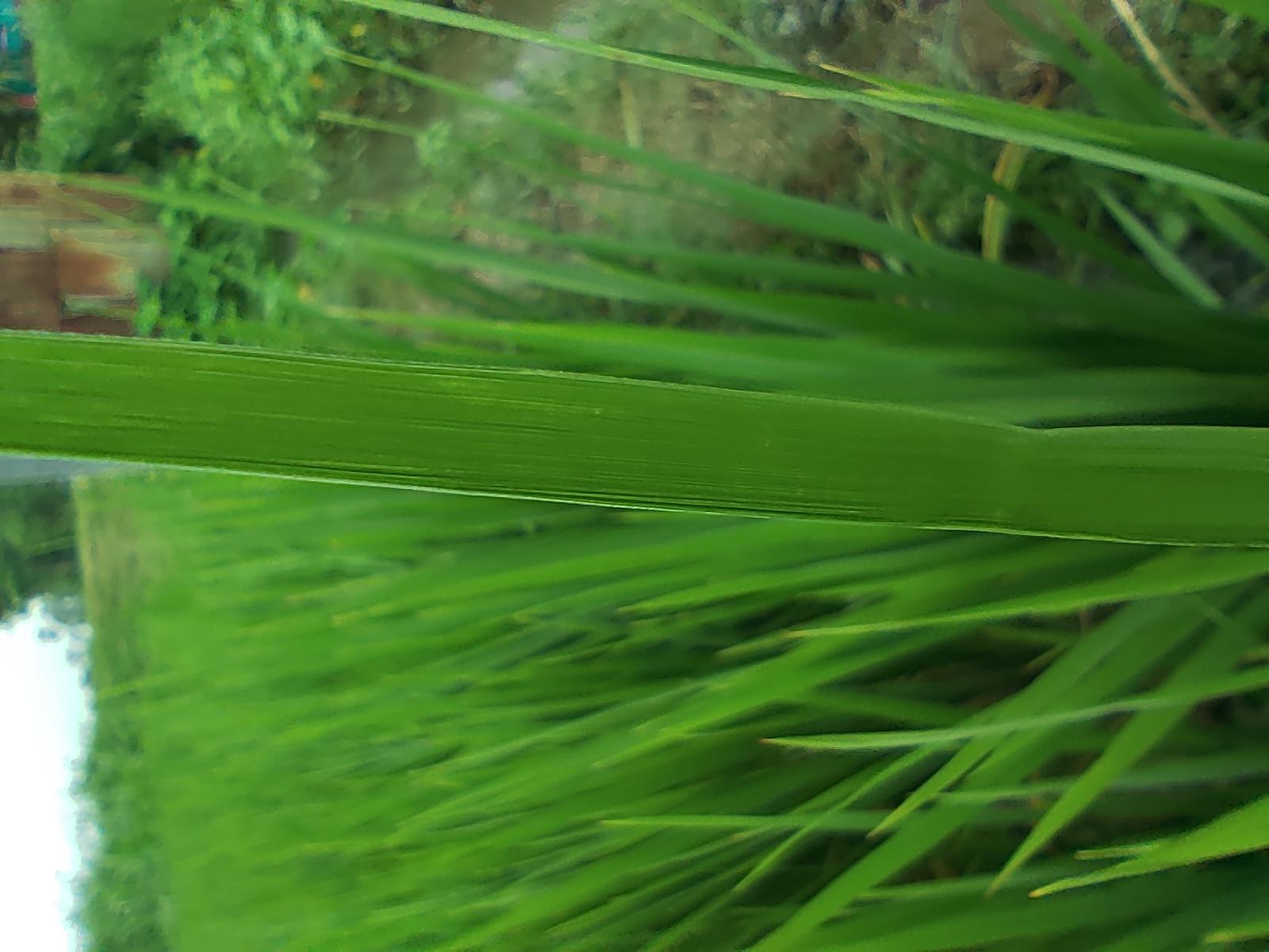Healthy: (540, 1, 826, 951)
